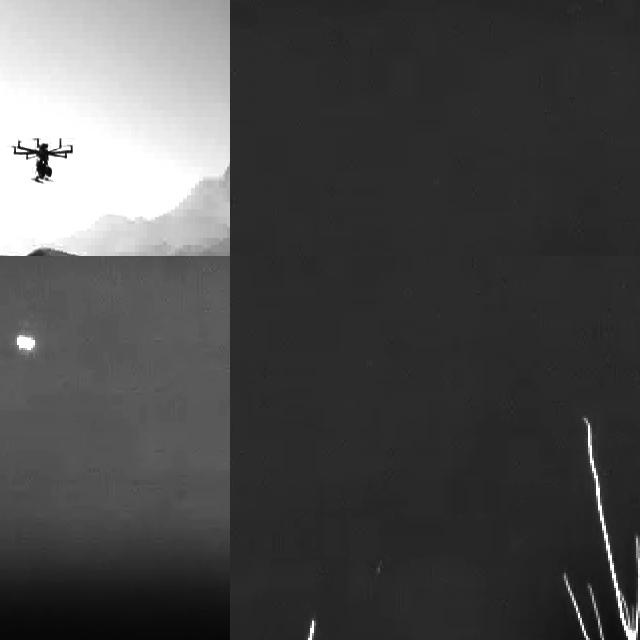0: (366, 557, 386, 587)
1: (6, 331, 42, 364)
drone: (12, 133, 76, 187)
